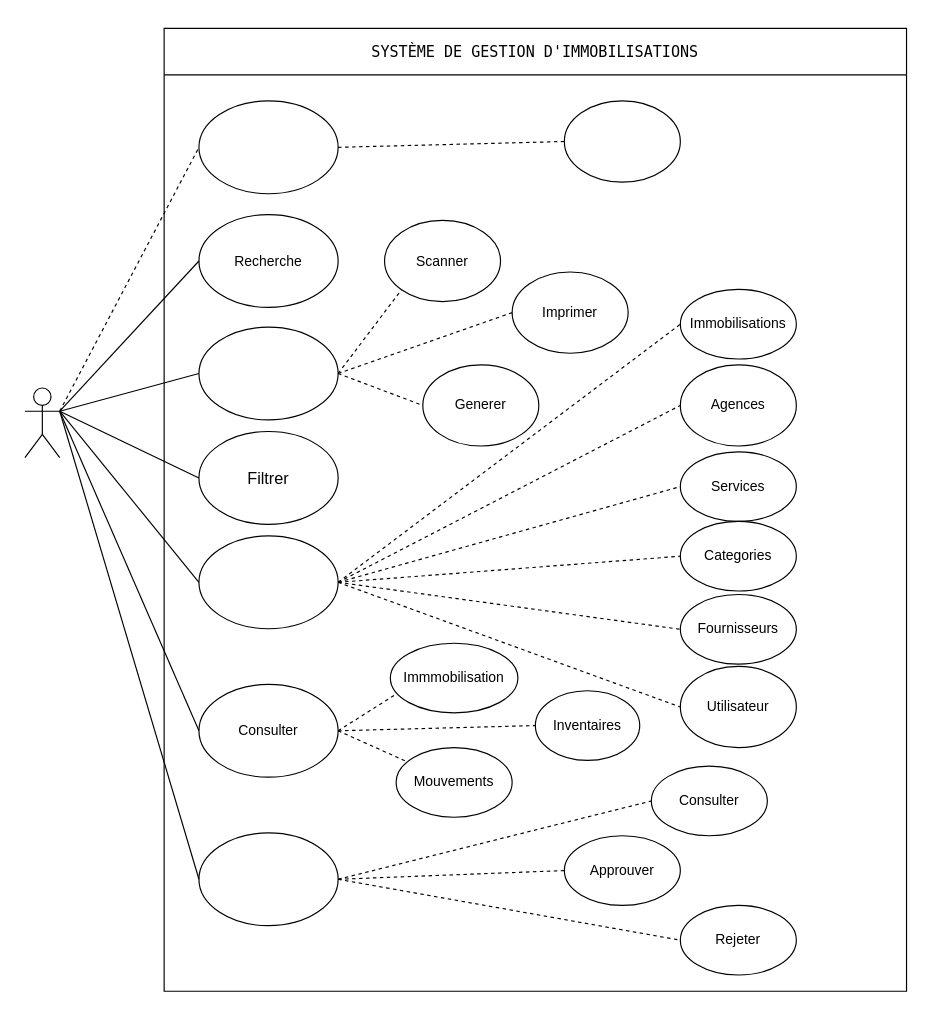
Image size: 927x1012. Some labels were removed from this diagram. Each missing label, with the box of its shape:
ADMIN: (24, 387, 60, 458)
authetification: (198, 100, 338, 194)
connexion: (563, 100, 680, 182)
Demande: (198, 832, 338, 926)
Gerer: (198, 535, 338, 629)
QR Code: (198, 326, 338, 420)
